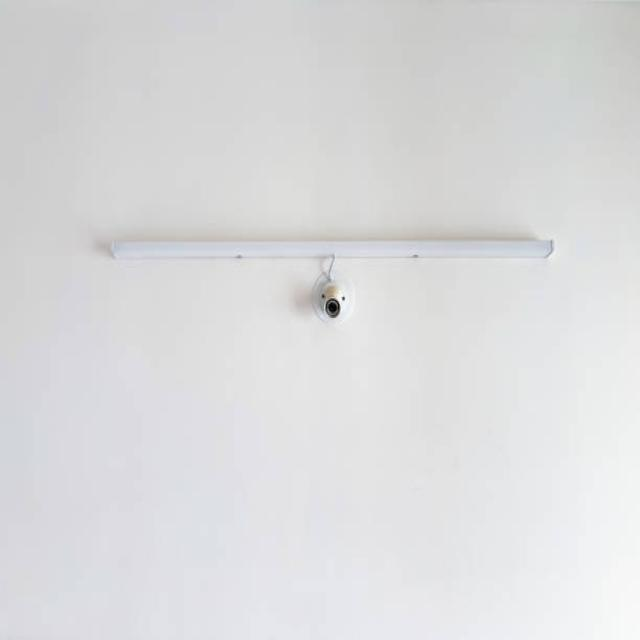tubelight_off: (100, 229, 566, 263)
